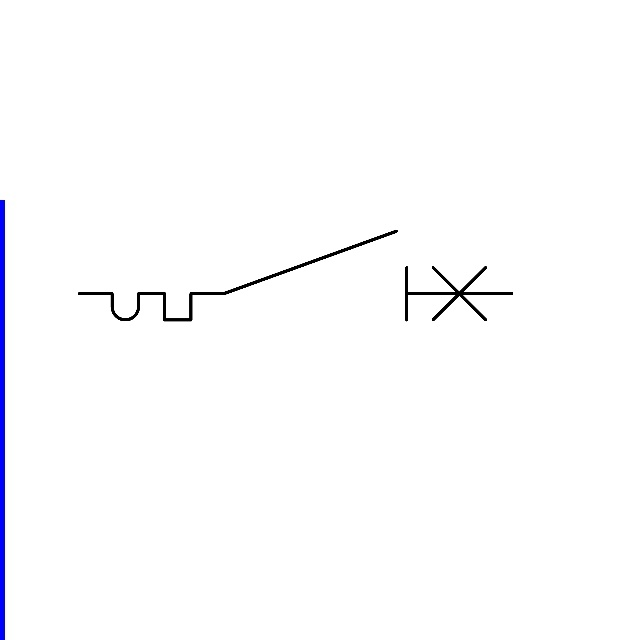interruptor_termomagnetico: (68, 220, 523, 331)
